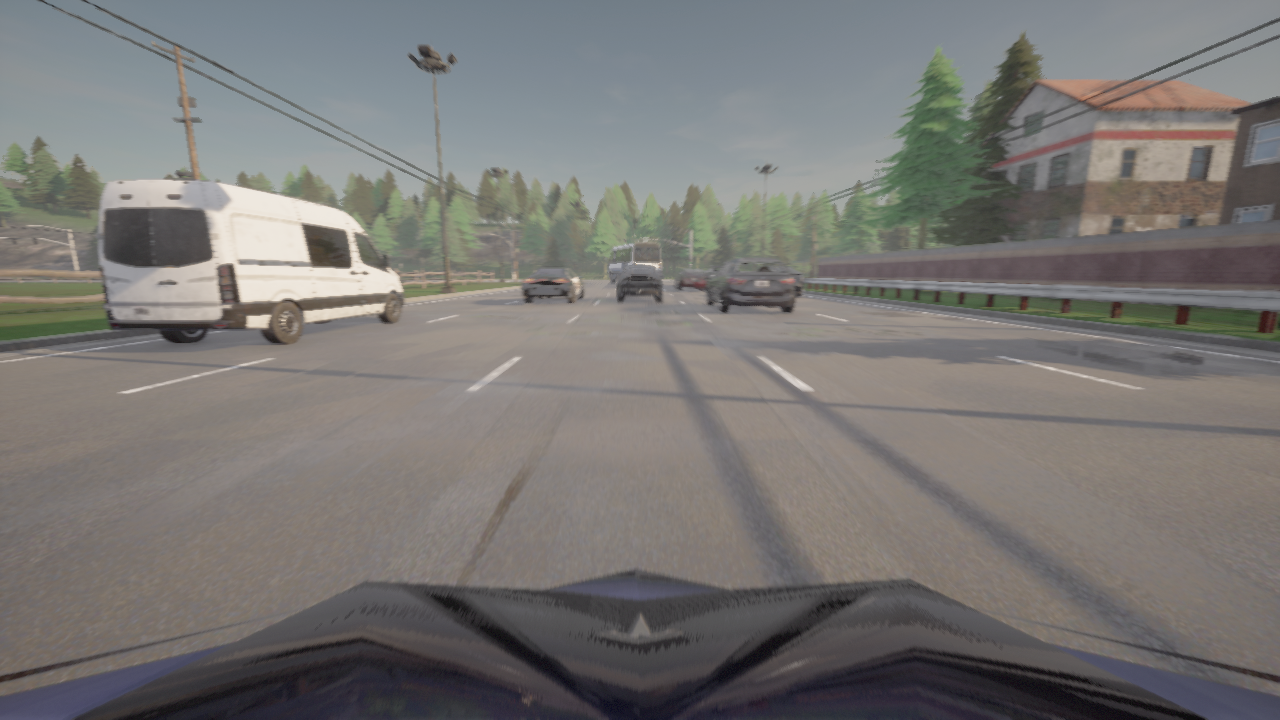cyclist: (0, 569, 1279, 719), (95, 180, 404, 343), (706, 258, 794, 312), (521, 265, 584, 303), (605, 242, 661, 282), (616, 266, 663, 302), (675, 269, 707, 290), (787, 267, 802, 297), (704, 266, 721, 282)
